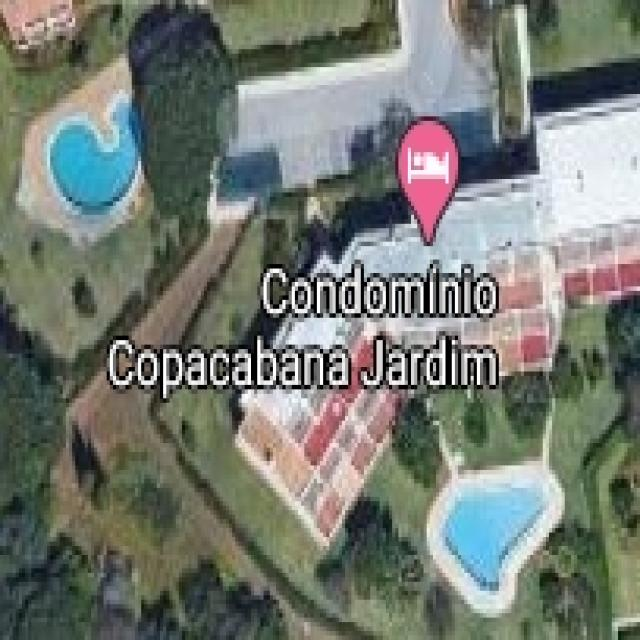swimming pool: (411, 454, 559, 599), (44, 89, 141, 215)
